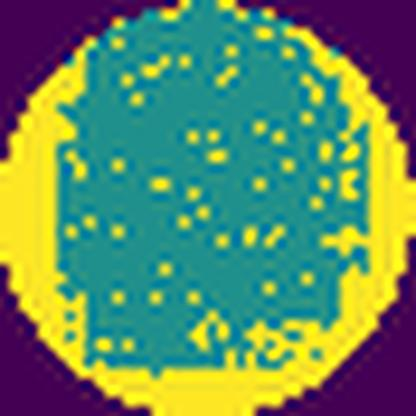Edge-Loc: (285, 14, 416, 369), (0, 29, 106, 382), (68, 351, 358, 416)
